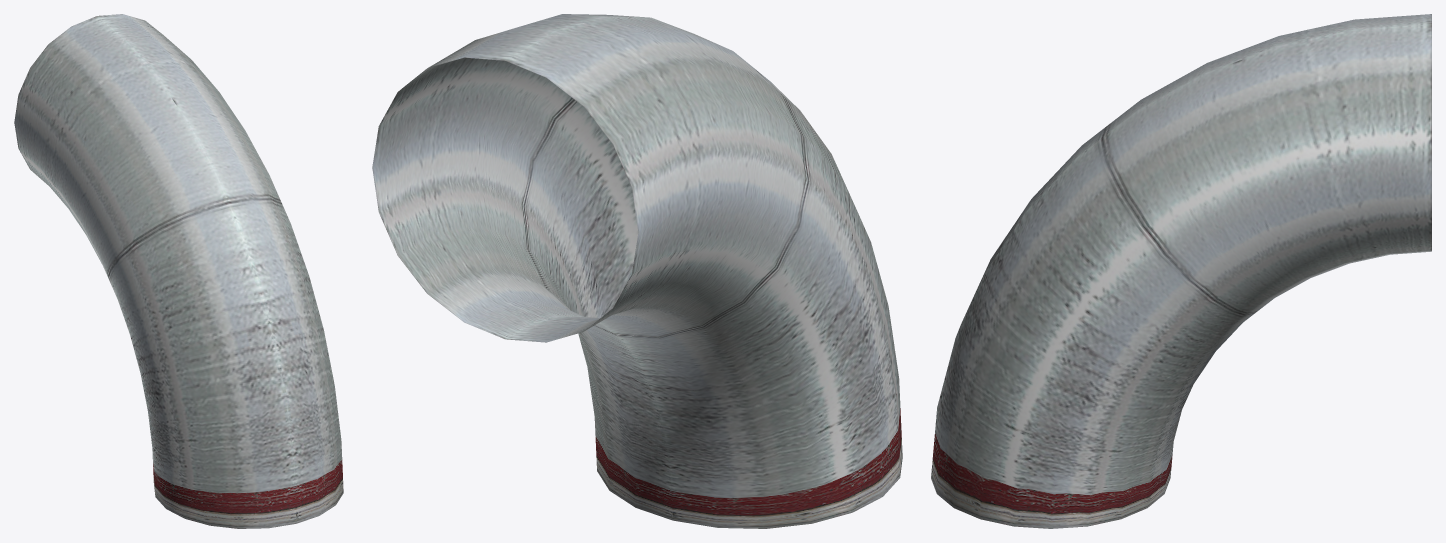
File: Pipe_A_1mts_00.fbx
3 views of the same model, side by side, from view 1: azimuth 30°, elevation 25°; view 2: azimuth 150°, elevation 25°; view 3: azimuth 270°, elevation 25° (orthographic). The views are drawn at different scales.
Parts seen in each view (by area): view 1: Pipe_A_1mts_00; view 2: Pipe_A_1mts_00; view 3: Pipe_A_1mts_00.
Boxes of the visible parts, x1,y1,x2,y2 form: Pipe_A_1mts_00: (14, 14, 343, 528); Pipe_A_1mts_00: (372, 14, 902, 528); Pipe_A_1mts_00: (931, 14, 1431, 528).
Bounding box in the file's own units: 100 × 209 × 209.
Materials: 1 (1 with a texture image).
